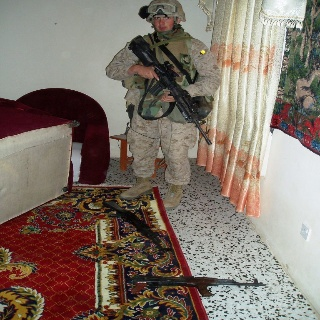rifle: (128, 35, 214, 149)
